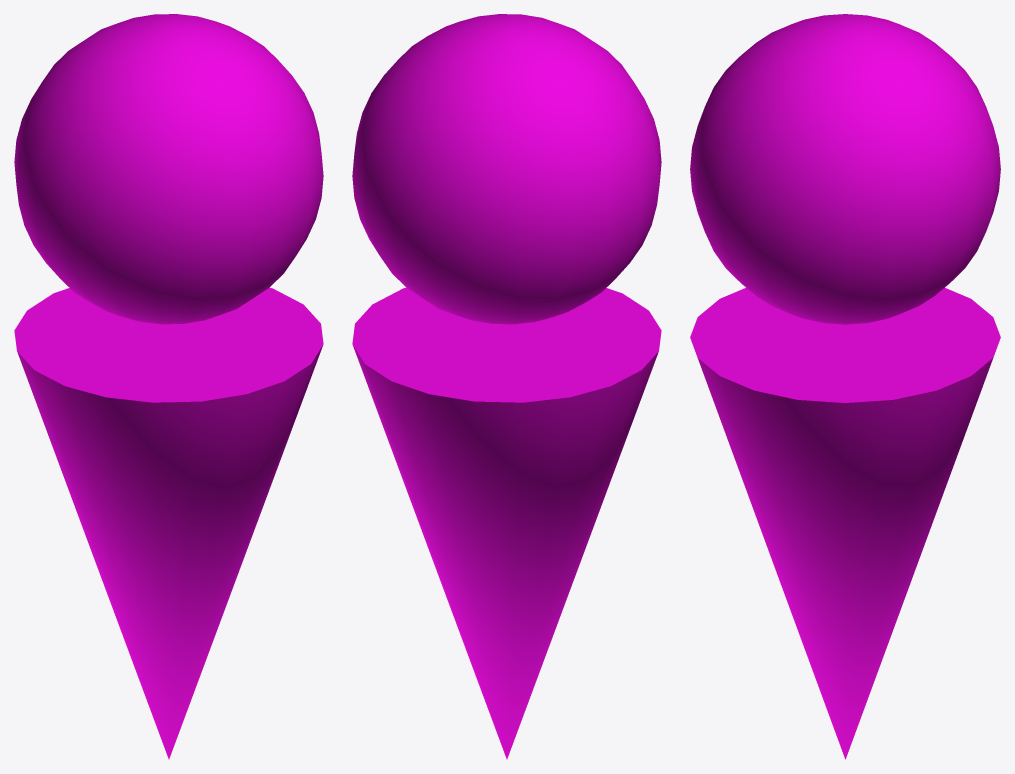
Rendered from player_pink.fbx.
3 renders of one model, left to right at view 1: azimuth 30°, elevation 25°; view 2: azimuth 150°, elevation 25°; view 3: azimuth 270°, elevation 25°, orthographic.
Visible parts, largest first — view 1: pSphere1, pCone1; view 2: pSphere1, pCone1; view 3: pSphere1, pCone1.
Boxes of the visible parts, box(x1,y1,x2,y2) form: pSphere1: box(14, 14, 323, 324); pCone1: box(14, 287, 323, 759); pSphere1: box(352, 14, 661, 324); pCone1: box(352, 287, 661, 759); pSphere1: box(690, 14, 1000, 324); pCone1: box(690, 288, 1000, 759).
Bounding box in the file's own units: 2 × 5.19 × 2.
